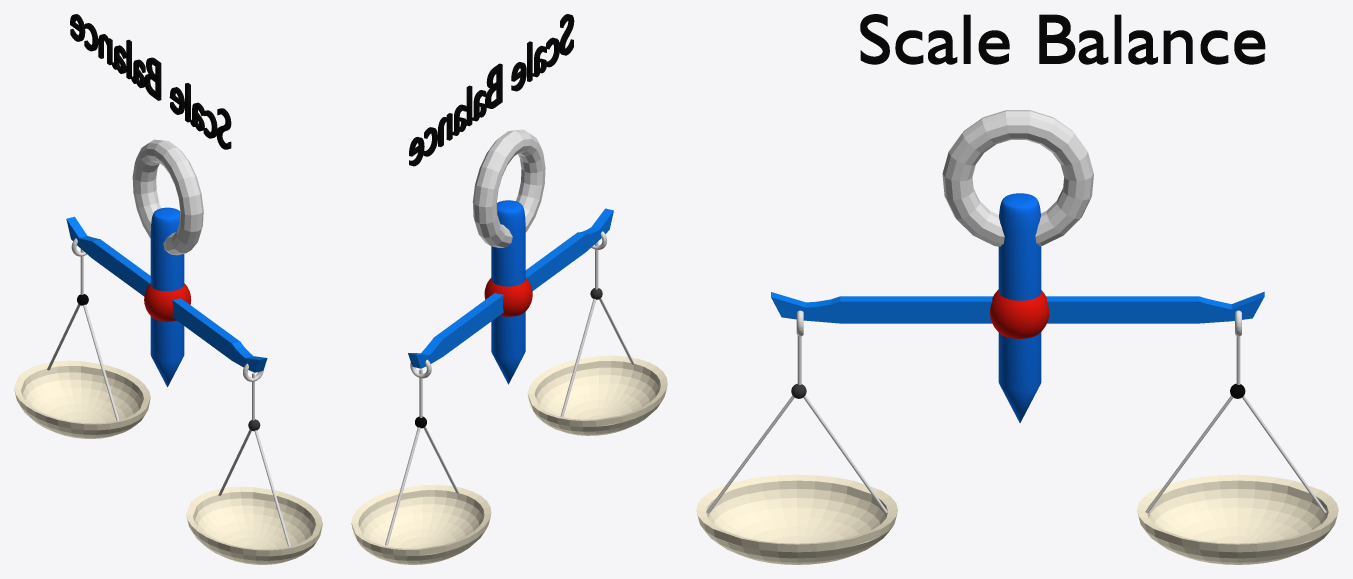
Rendered from Scale Balance .gltf.
3 views of the same model, side by side, from view 1: azimuth 30°, elevation 25°; view 2: azimuth 150°, elevation 25°; view 3: azimuth 270°, elevation 25° (orthographic). The views are drawn at different scales.
Visible parts, largest first — view 1: Sphere.002, Sphere.003, Torus.001, Plane, Cylinder, Text, Sphere, Cylinder.002, Cylinder.005; view 2: Sphere.002, Sphere.003, Torus.001, Plane, Cylinder, Text, Sphere, Cylinder.003, Cylinder.006; view 3: Sphere.003, Sphere.002, Plane, Torus.001, Text, Cylinder, Sphere.
Boxes of the visible parts, x1,y1,x2,y2 form: Sphere.002: (186, 486, 322, 564); Sphere.003: (14, 360, 150, 438); Torus.001: (132, 139, 203, 255); Plane: (66, 216, 267, 372); Cylinder: (150, 207, 184, 386); Text: (70, 14, 231, 149); Sphere: (144, 283, 191, 321); Cylinder.002: (254, 430, 290, 546); Cylinder.005: (83, 304, 119, 420); Sphere.002: (527, 355, 667, 435); Sphere.003: (351, 484, 491, 564); Torus.001: (472, 129, 545, 247); Plane: (408, 208, 613, 368); Cylinder: (491, 200, 525, 384); Text: (409, 14, 574, 166); Sphere: (484, 277, 532, 316); Cylinder.003: (560, 298, 596, 416); Cylinder.006: (385, 427, 420, 545); Sphere.003: (1137, 474, 1338, 564); Sphere.002: (696, 474, 897, 564); Plane: (771, 291, 1264, 323); Torus.001: (942, 110, 1093, 246); Text: (860, 14, 1265, 64); Cylinder: (998, 193, 1041, 422); Sphere: (990, 289, 1049, 338).
Size of the model in its own units: 1.11 by 3.97 by 4.3.
